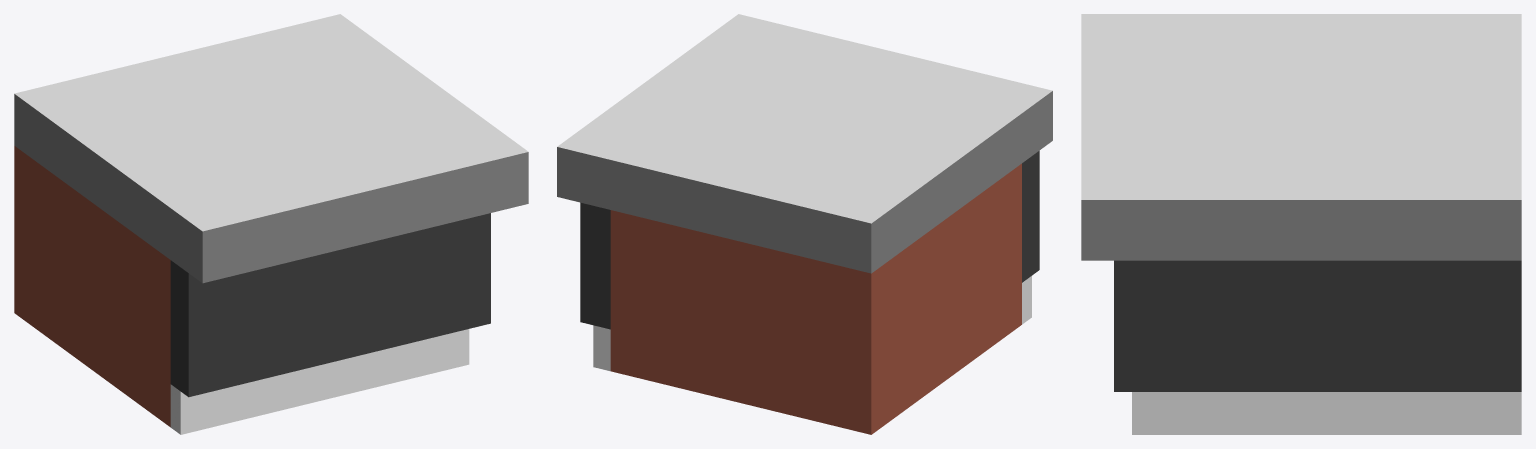
Rendered from pickup_corner_out.fbx.
3 renders of one model, left to right at view 1: azimuth 30°, elevation 25°; view 2: azimuth 150°, elevation 25°; view 3: azimuth 270°, elevation 25°, orthographic. The views are drawn at different scales.
Visible parts, largest first — view 1: Cube.132; view 2: Cube.132; view 3: Cube.132.
Boxes of the visible parts, box(x1,y1,x2,y2) form: Cube.132: box(14, 14, 528, 434); Cube.132: box(557, 14, 1052, 434); Cube.132: box(1081, 14, 1521, 434).
Size of the model in its own units: 100 by 100 by 64.26.
